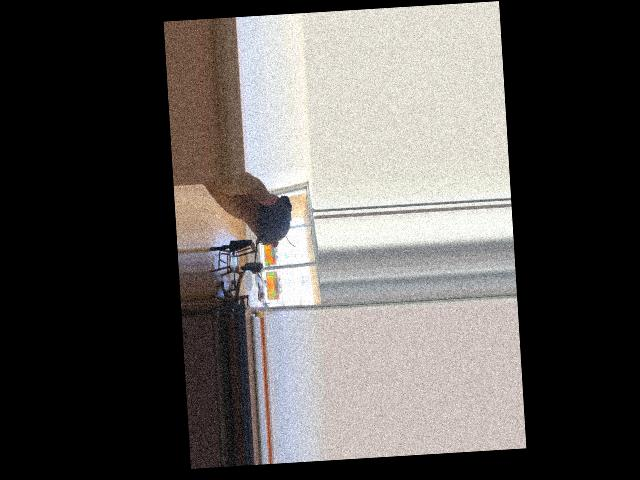beet: (250, 195, 296, 281)
